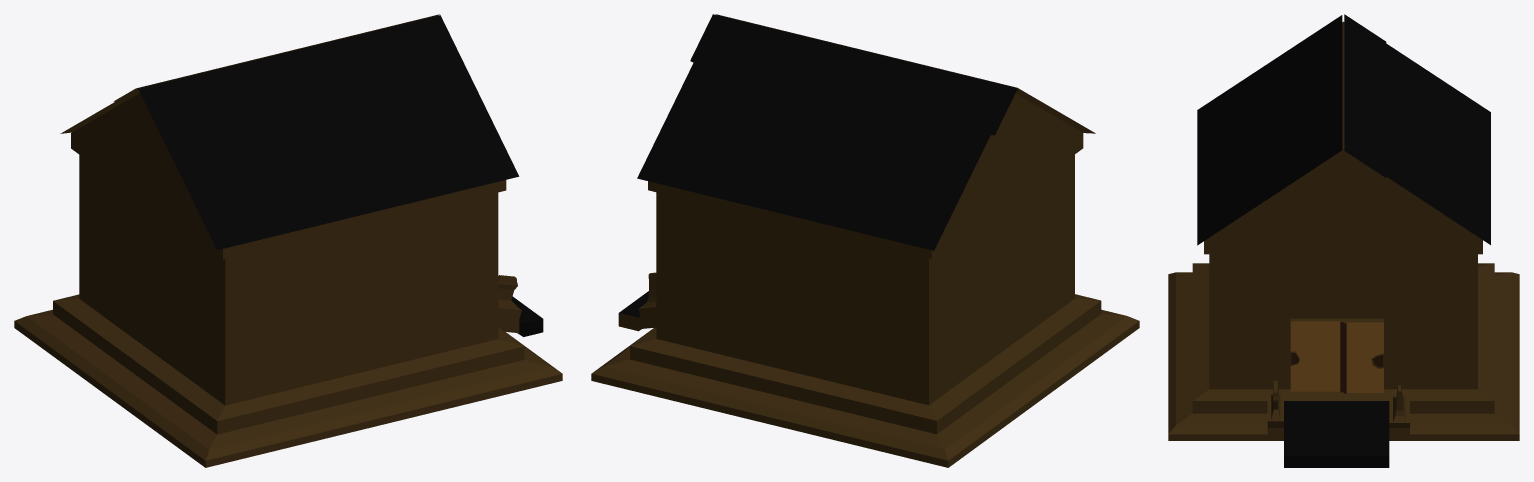
File: HOUSE 2.fbx
3 renders of one model, left to right at view 1: azimuth 30°, elevation 25°; view 2: azimuth 150°, elevation 25°; view 3: azimuth 270°, elevation 25°, orthographic. The views are drawn at different scales.
Visible parts, largest first — view 1: Cube; view 2: Cube; view 3: Cube.
Boxes of the visible parts, bbox=[...] form: Cube: bbox=[14, 14, 562, 467]; Cube: bbox=[591, 14, 1139, 467]; Cube: bbox=[1168, 14, 1519, 467].
Bounding box in the file's own units: 820 × 608 × 677.
